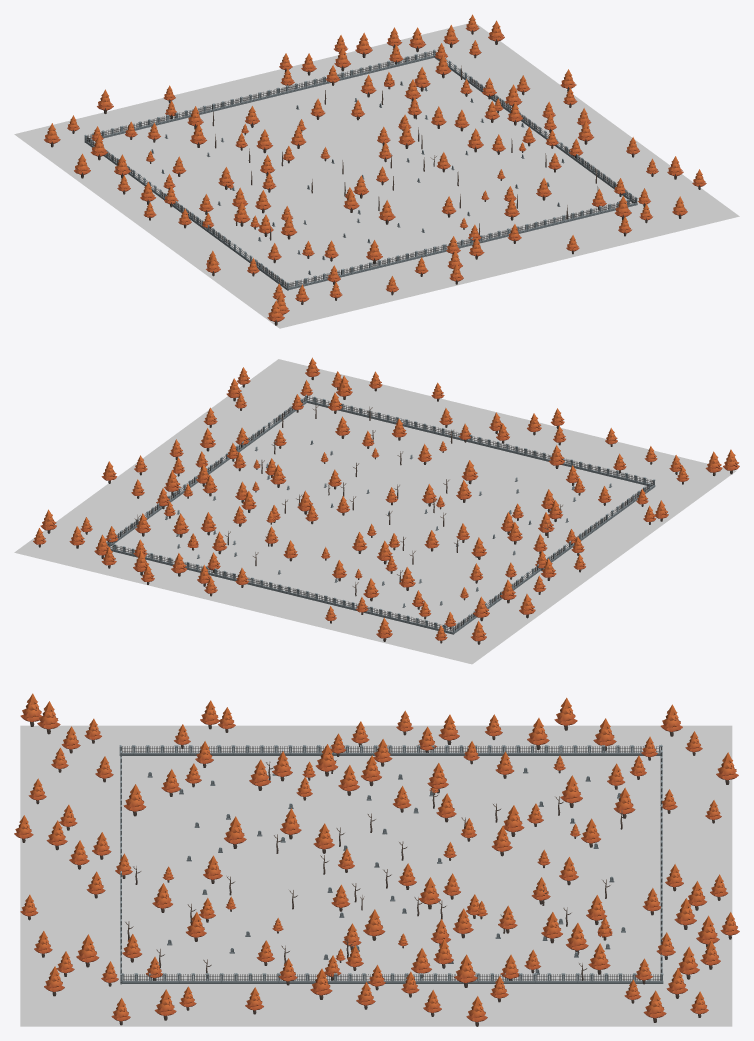
Rendered from Environnement.glb.
3 renders of one model, top to bottom at view 1: azimuth 30°, elevation 25°; view 2: azimuth 150°, elevation 25°; view 3: azimuth 270°, elevation 25°, orthographic. The views are drawn at different scales.
Visible parts, largest first — view 1: Plane.001, Plane, fence, fence.001; view 2: Plane.001, Plane, fence.001, fence; view 3: Plane, Plane.001, fence, fence.001.
Boxes of the visible parts, <box> form: Plane.001: <box>122,69,631,282</box>; Plane: <box>14,23,739,328</box>; fence: <box>84,50,434,290</box>; fence.001: <box>288,49,637,289</box>; Plane.001: <box>121,404,628,618</box>; Plane: <box>14,359,736,664</box>; fence.001: <box>107,394,653,546</box>; fence: <box>106,479,655,634</box>; Plane: <box>20,725,732,1026</box>; Plane.001: <box>126,770,626,980</box>; fence: <box>119,744,662,980</box>; fence.001: <box>120,745,663,984</box>.
Bounding box in the file's own units: 205 × 14.91 × 204.
Materials: 8 (8 with a texture image).
